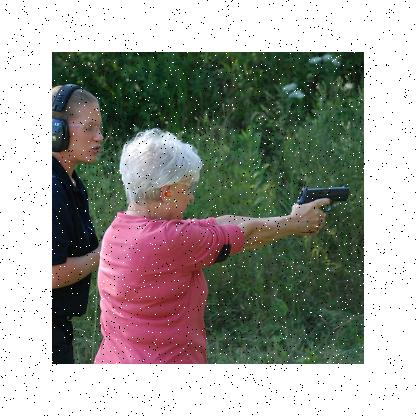gun: (296, 184, 350, 235)
